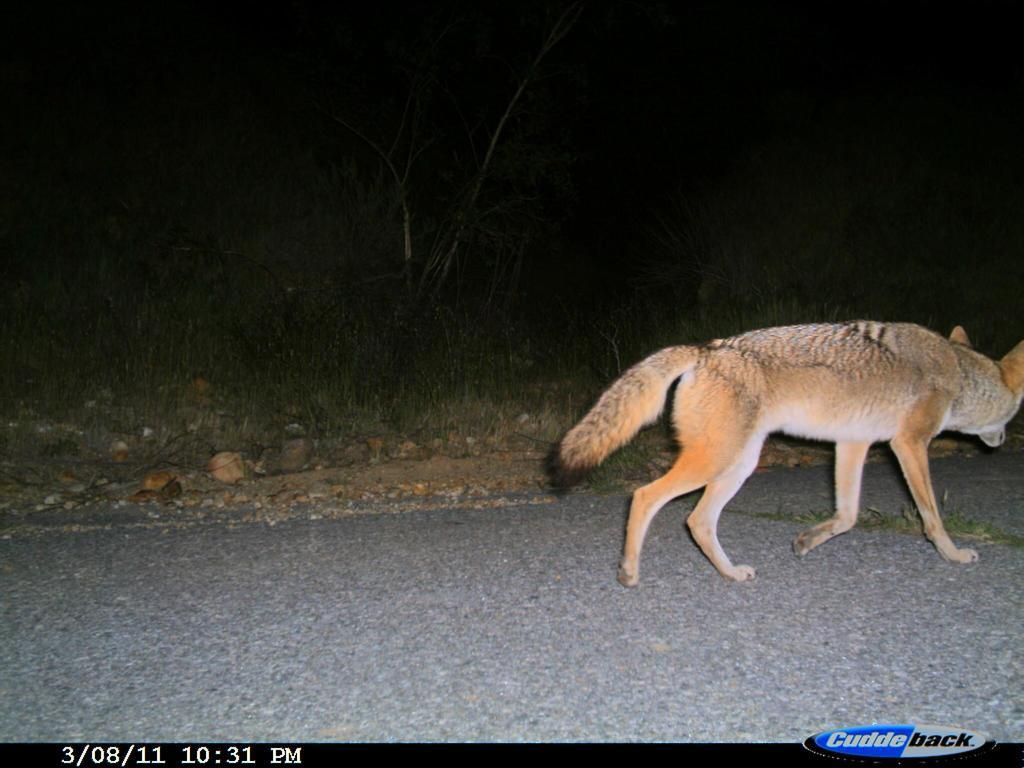coyote: (537, 308, 1018, 598)
